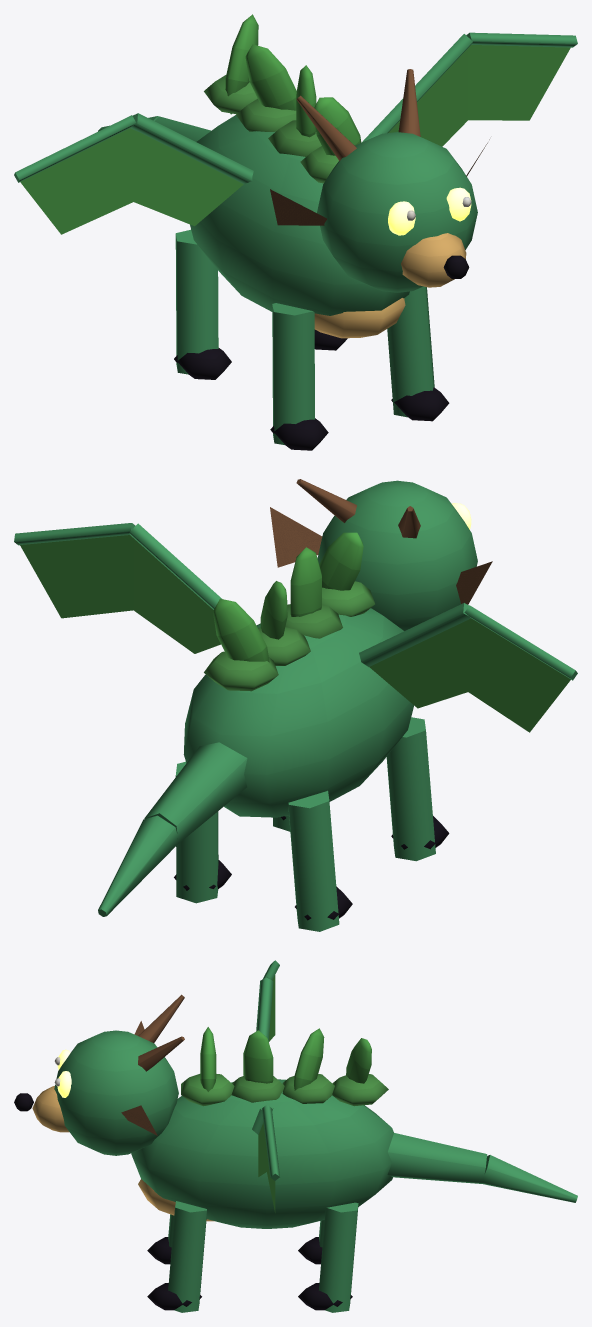
File: monster_moss_drake.glb
3 views of the same model, one above another, from view 1: azimuth 30°, elevation 25°; view 2: azimuth 150°, elevation 25°; view 3: azimuth 270°, elevation 25° (orthographic). The views are drawn at different scales.
Parts seen in each view (by area): view 1: body_t0_palette, wingl_t0_palette, wingr_t0_palette, legl_t0_palette, legr_t0_palette, body_t0_glow_gold, tail_t0_palette; view 2: body_t0_palette, wingr_t0_palette, wingl_t0_palette, legl_t0_palette, tail_t0_palette, legr_t0_palette; view 3: body_t0_palette, legr_t0_palette, tail_t0_palette, wingr_t0_palette, wingl_t0_palette, legl_t0_palette.
Boxes of the visible parts, x1,y1,x2,y2 form: body_t0_palette: [190, 14, 489, 338]; wingl_t0_palette: [14, 113, 253, 234]; wingr_t0_palette: [362, 32, 577, 146]; legl_t0_palette: [174, 229, 328, 450]; legr_t0_palette: [314, 286, 449, 421]; body_t0_glow_gold: [388, 187, 471, 235]; tail_t0_palette: [98, 116, 210, 141]; body_t0_palette: [183, 479, 492, 817]; wingr_t0_palette: [14, 523, 221, 653]; wingl_t0_palette: [359, 603, 577, 732]; legl_t0_palette: [288, 717, 449, 931]; tail_t0_palette: [98, 742, 247, 916]; legr_t0_palette: [174, 761, 290, 903]; body_t0_palette: [14, 994, 393, 1228]; legr_t0_palette: [147, 1201, 358, 1312]; tail_t0_palette: [387, 1133, 577, 1202]; wingr_t0_palette: [252, 1102, 279, 1212]; wingl_t0_palette: [256, 960, 279, 1041]; legl_t0_palette: [147, 1214, 324, 1264].
Size of the model in its own units: 0.6033 by 0.3555 by 0.6737.
